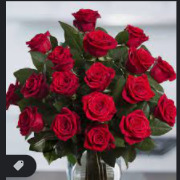RedRose: (80, 125, 117, 168), (120, 110, 153, 146), (83, 92, 118, 124), (14, 106, 49, 137), (52, 106, 84, 137), (125, 44, 155, 75), (25, 28, 55, 58), (50, 67, 80, 97), (128, 73, 153, 108), (84, 27, 117, 53), (82, 63, 113, 90)
